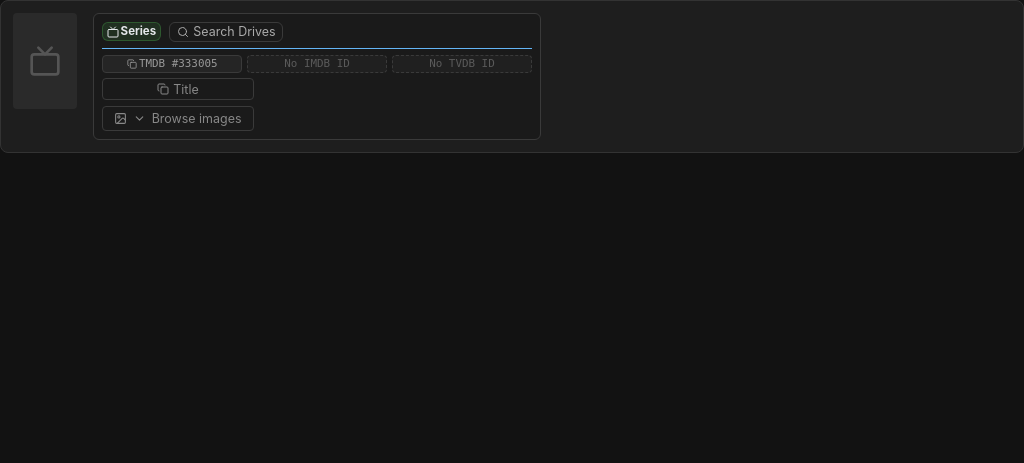
Test case: TmdbItemCard seasons tab › dims the tab when a source has nothing at all for the title, even from an older server
The image size is (1024, 463).
Click the button "Browse images" at (178, 118), box x1=102 y1=106 x2=254 y2=131
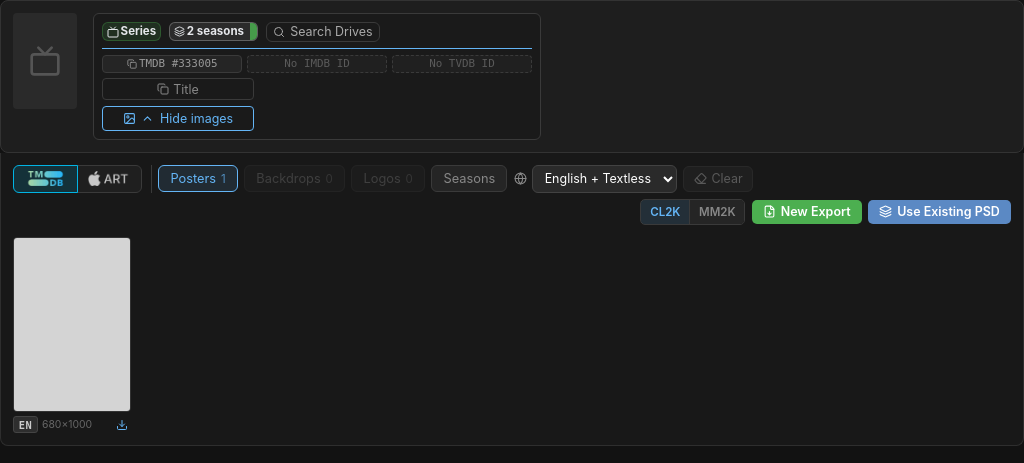
Check: the element with class "tmdb-gallery-panel" is shown
Click the button named "Browse Apple TV images" at (110, 179), box x1=77 y1=165 x2=142 y2=193
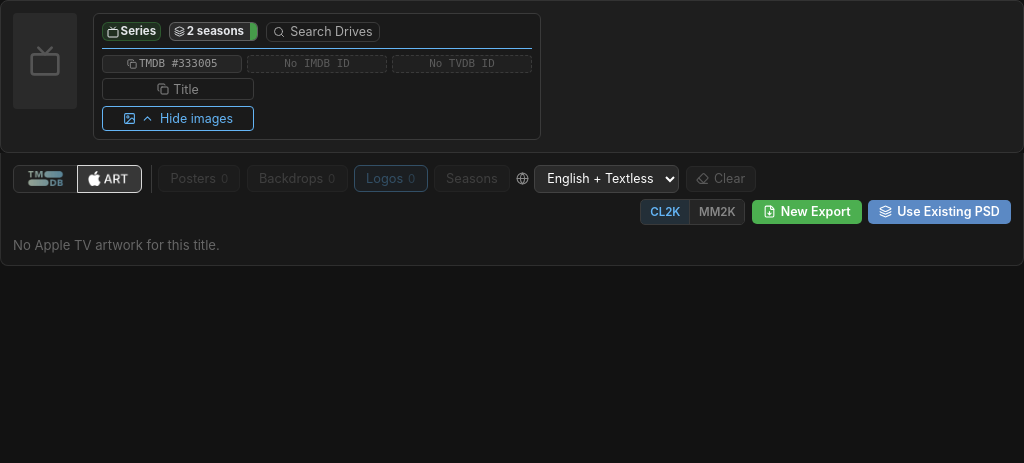
Check: the text "No Apple TV artwork for this title." is shown, box x1=13 y1=237 x2=220 y2=253
Check: the button "Seasons" is disabled, box x1=434 y1=165 x2=510 y2=192
